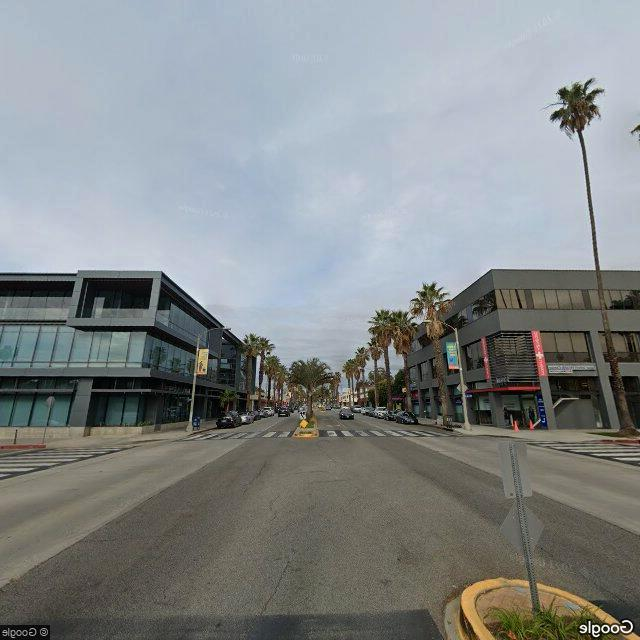pothole: (261, 552, 297, 614), (239, 457, 272, 497)
